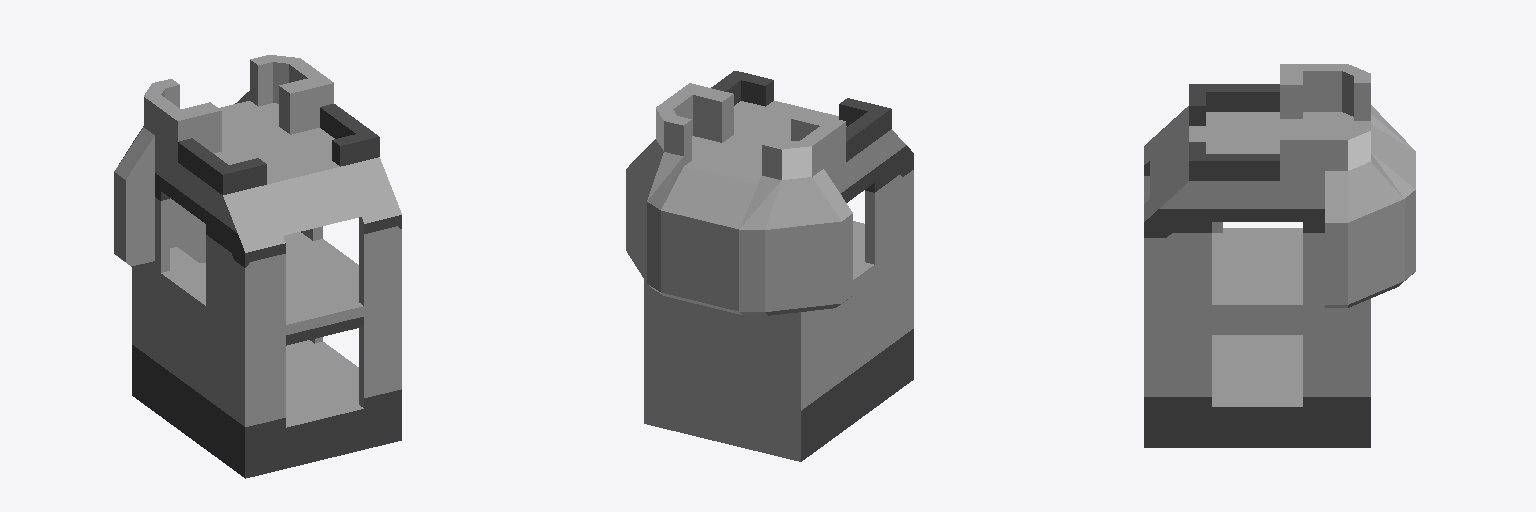
The model's file is tower-3-storeys.obj.
3 views of the same model, side by side, from view 1: azimuth 30°, elevation 25°; view 2: azimuth 150°, elevation 25°; view 3: azimuth 270°, elevation 25° (orthographic).
Visible parts, largest first — view 1: Mesh1 Tower__3_Stories1 Model; view 2: Mesh1 Tower__3_Stories1 Model; view 3: Mesh1 Tower__3_Stories1 Model.
Boxes of the visible parts, x1,y1,x2,y2 form: Mesh1 Tower__3_Stories1 Model: [114, 55, 401, 478]; Mesh1 Tower__3_Stories1 Model: [626, 71, 913, 461]; Mesh1 Tower__3_Stories1 Model: [1144, 64, 1415, 447].
Size of the model in its own units: 5.5 by 7.5 by 6.